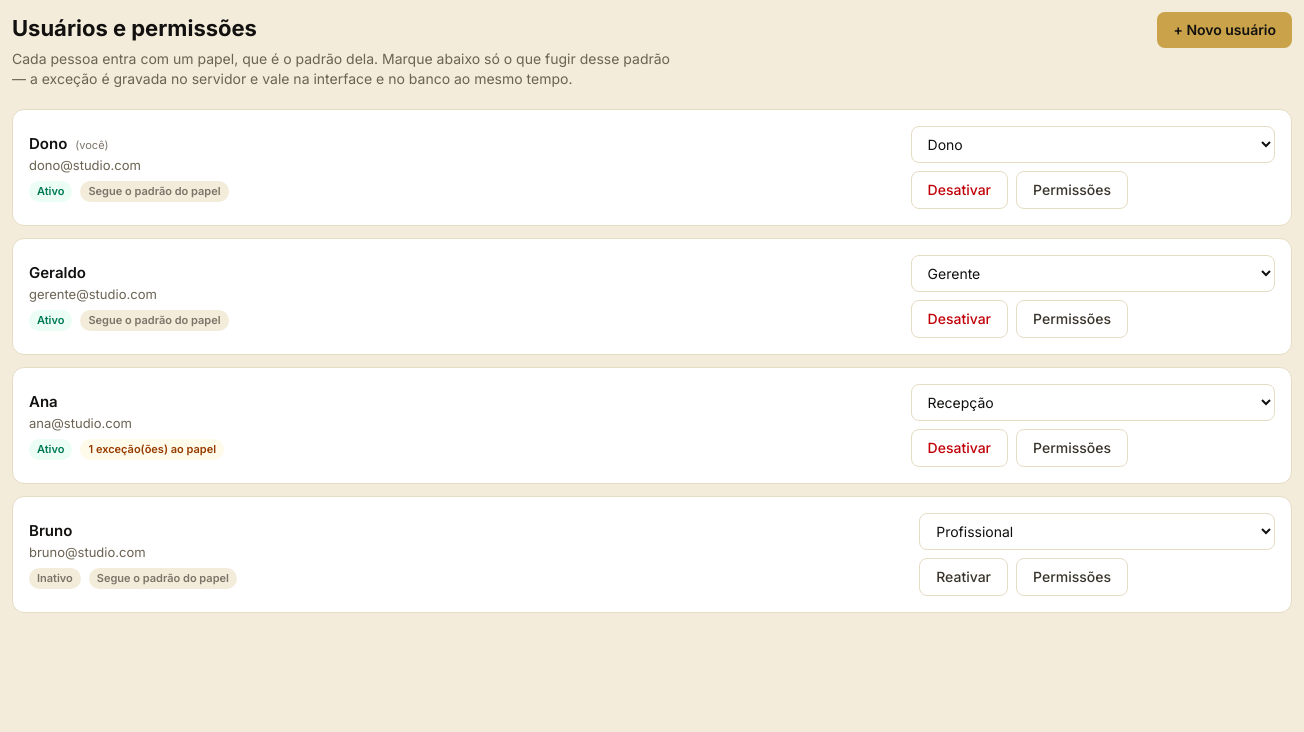
it: gestão de acesso › trocar papel de alguém é confirmado na própria tela
This screenshot has width=1304, height=732.
Select "Gerente" in the dropdown named "Papel de Ana" at (1093, 402), box left=911, top=384, right=1275, bottom=421
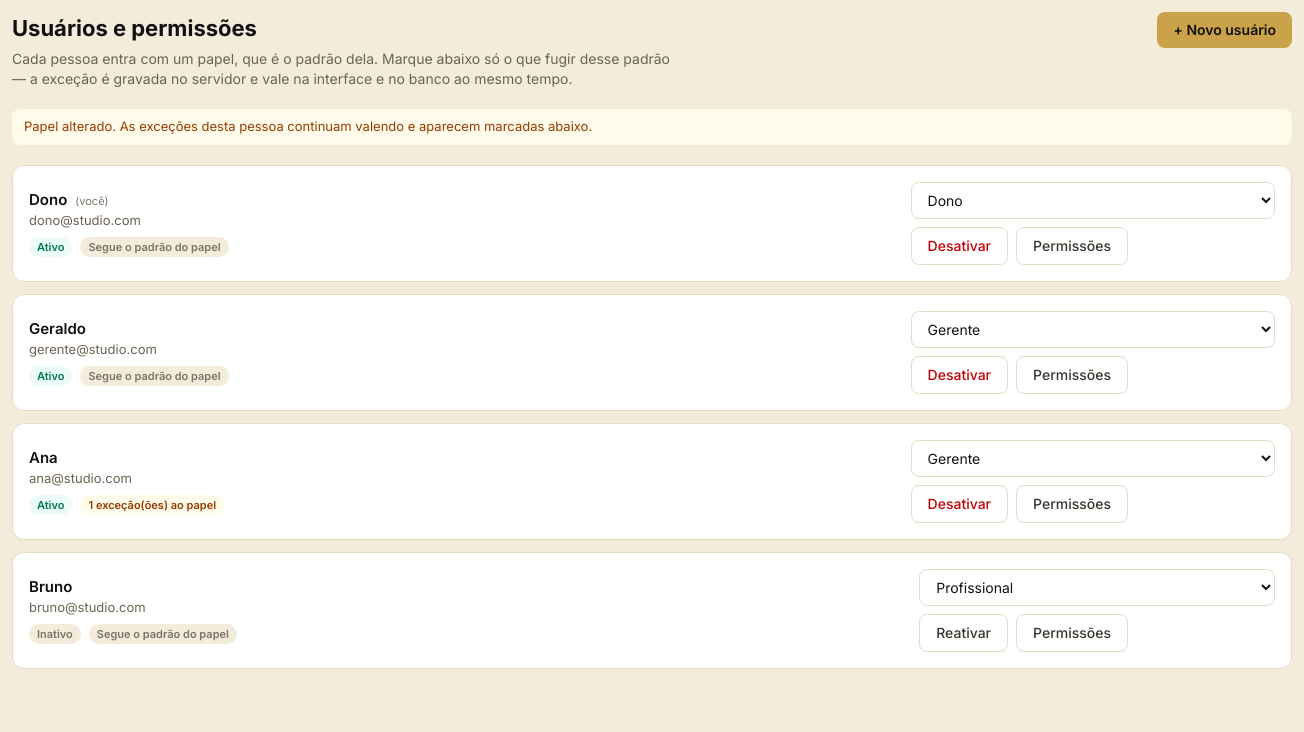
expect the text "Papel alterado" is shown: met, box left=24, top=118, right=592, bottom=134
